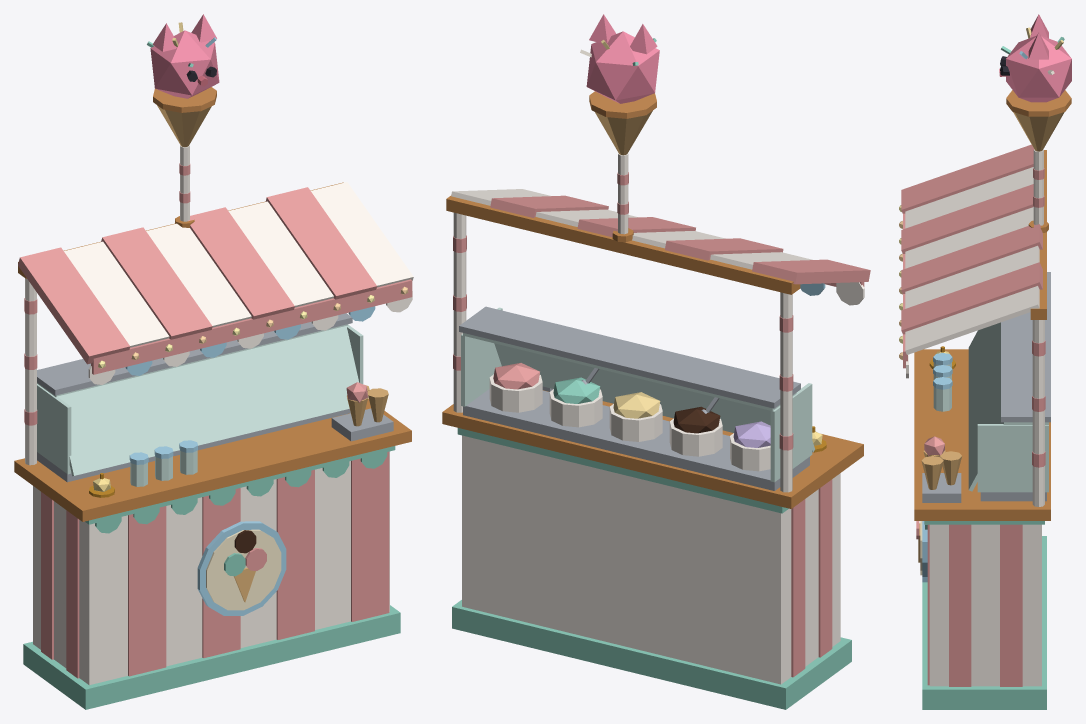
The model's file is CatCafe_Decor_IceCreamCounter.fbx.
The picture shows the model from 3 angles, left to right: view 1: azimuth 30°, elevation 25°; view 2: azimuth 150°, elevation 25°; view 3: azimuth 270°, elevation 25°; orthographic projection. The views are drawn at different scales.
Visible parts, largest first — view 1: CatCafe_Decor_IceCreamCounter, CatCafe_Decor_IceCreamCounter_Glass, CatCafe_Decor_IceCreamCounter_Sign_Spin; view 2: CatCafe_Decor_IceCreamCounter, CatCafe_Decor_IceCreamCounter_Glass, CatCafe_Decor_IceCreamCounter_Sign_Spin; view 3: CatCafe_Decor_IceCreamCounter, CatCafe_Decor_IceCreamCounter_Glass, CatCafe_Decor_IceCreamCounter_Sign_Spin.
Boxes of the visible parts, left/top/right/bottom form: CatCafe_Decor_IceCreamCounter: left=14, top=182, right=413, bottom=709; CatCafe_Decor_IceCreamCounter_Glass: left=37, top=324, right=363, bottom=476; CatCafe_Decor_IceCreamCounter_Sign_Spin: left=147, top=14, right=219, bottom=221; CatCafe_Decor_IceCreamCounter: left=442, top=189, right=870, bottom=709; CatCafe_Decor_IceCreamCounter_Glass: left=461, top=307, right=815, bottom=482; CatCafe_Decor_IceCreamCounter_Sign_Spin: left=580, top=14, right=659, bottom=234; CatCafe_Decor_IceCreamCounter: left=901, top=144, right=1050, bottom=709; CatCafe_Decor_IceCreamCounter_Glass: left=968, top=322, right=1048, bottom=492; CatCafe_Decor_IceCreamCounter_Sign_Spin: left=999, top=14, right=1071, bottom=225.
Bounding box in the file's own units: 3.72 × 6.59 × 1.69.
Materials: 1 (1 with a texture image).
